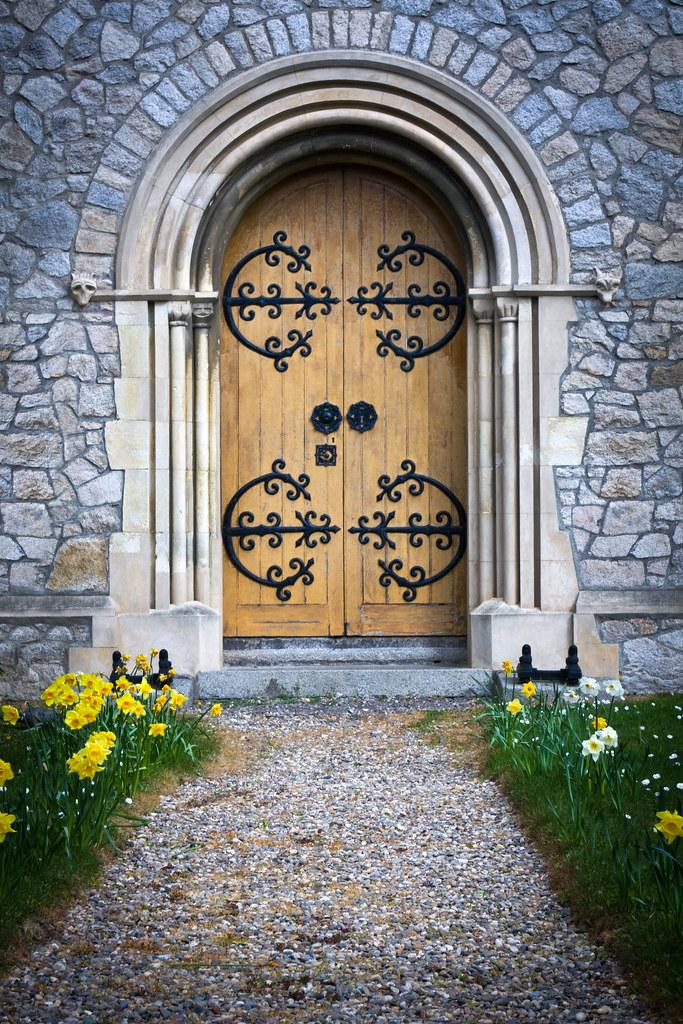door: (218, 159, 471, 640)
